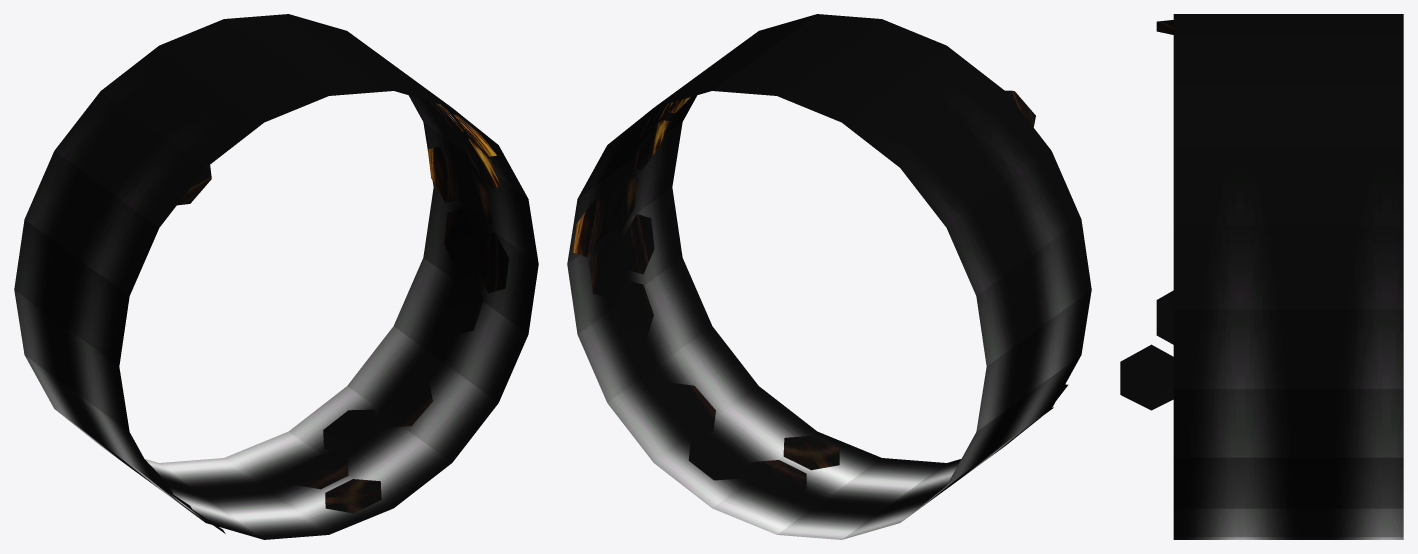
The model's file is tx_vehicle_taijinhujia_keep.obj.
The picture shows the model from 3 angles, left to right: view 1: azimuth 30°, elevation 25°; view 2: azimuth 150°, elevation 25°; view 3: azimuth 270°, elevation 25°; orthographic projection. The views are drawn at different scales.
Visible parts, largest first — view 1: Cylinder01, Object02; view 2: Cylinder01, Object02; view 3: Cylinder01, Object02.
Part boxes in pixels (box(x1,y1,x2,y2)): Cylinder01: box(14, 14, 538, 539); Object02: box(145, 101, 508, 533); Cylinder01: box(567, 14, 1091, 539); Object02: box(573, 90, 1067, 494); Cylinder01: box(1173, 14, 1403, 539); Object02: box(1120, 20, 1173, 410).
Bounding box in the file's own units: 378 × 378 × 202.
2 materials, 2 textured.
